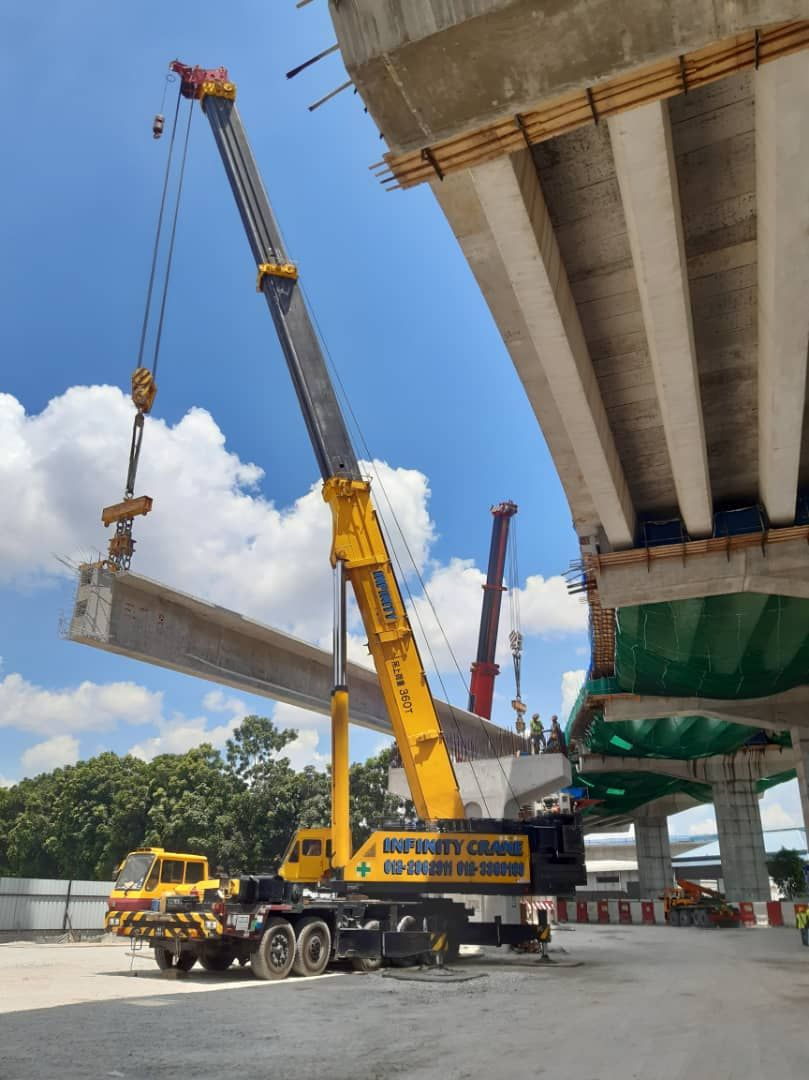crane: (85, 43, 597, 1014), (418, 442, 561, 840)
